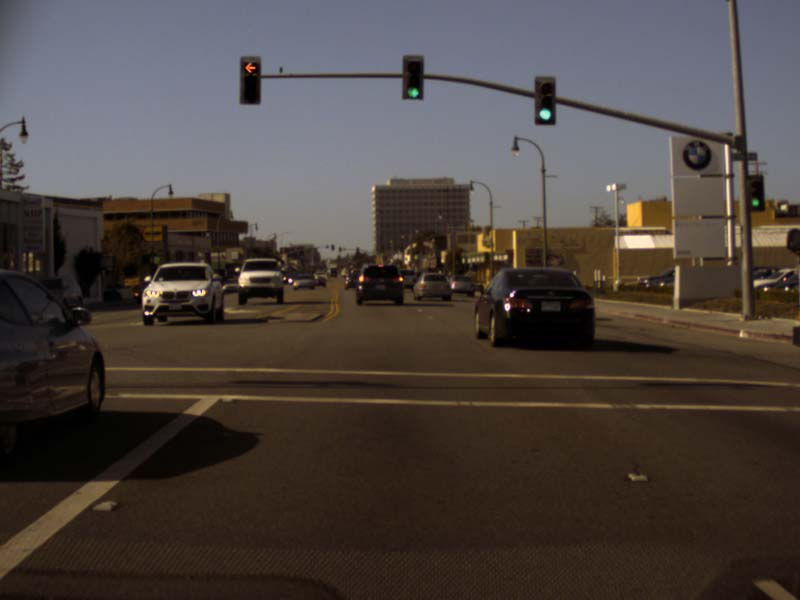Green: (402, 55, 423, 99), (535, 77, 554, 123), (748, 175, 762, 210)
Red: (239, 55, 261, 103)
